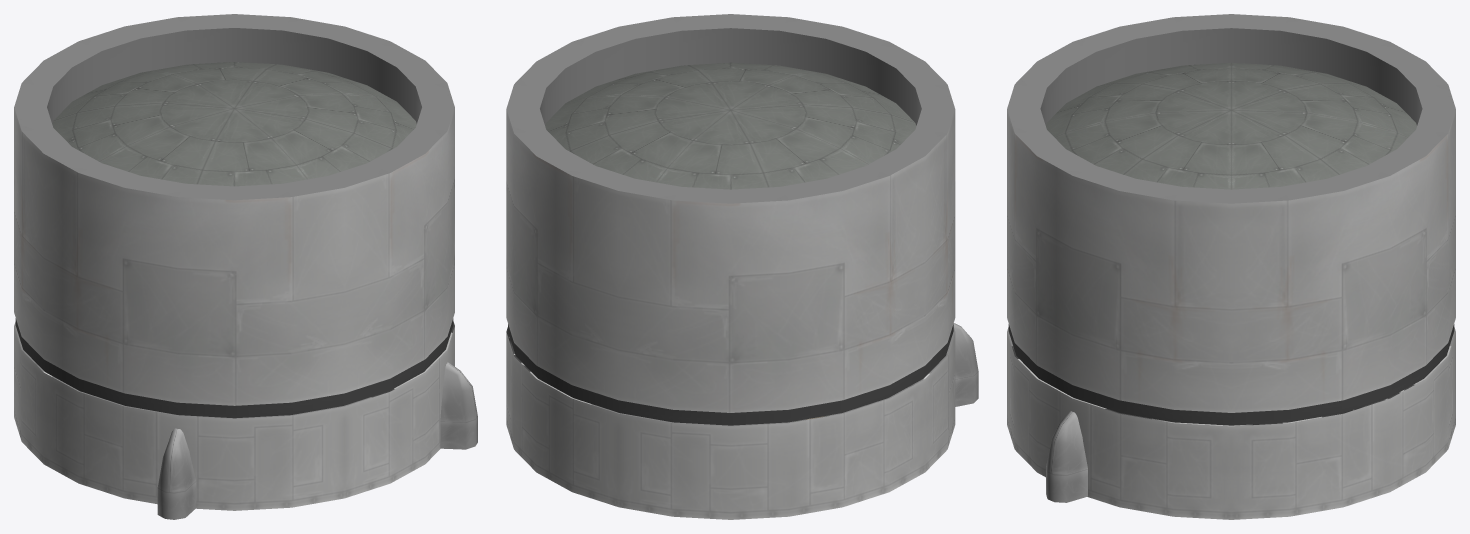
File: Saturn_S4_Tankage.dae
3 views of the same model, side by side, from view 1: azimuth 30°, elevation 25°; view 2: azimuth 150°, elevation 25°; view 3: azimuth 270°, elevation 25° (orthographic).
Parts seen in each view (by area): view 1: SIV_3125mTank3, Fins; view 2: SIV_3125mTank3, Fins; view 3: SIV_3125mTank3, Fins.
Part boxes in pixels (left/top/right/bottom): SIV_3125mTank3: left=14, top=14, right=454, bottom=510; Fins: left=157, top=362, right=477, bottom=519; SIV_3125mTank3: left=506, top=14, right=955, bottom=519; Fins: left=953, top=323, right=978, bottom=406; SIV_3125mTank3: left=1007, top=14, right=1455, bottom=519; Fins: left=1046, top=411, right=1087, bottom=502.
Size of the model in its own units: 3.12 by 2.43 by 3.12.
